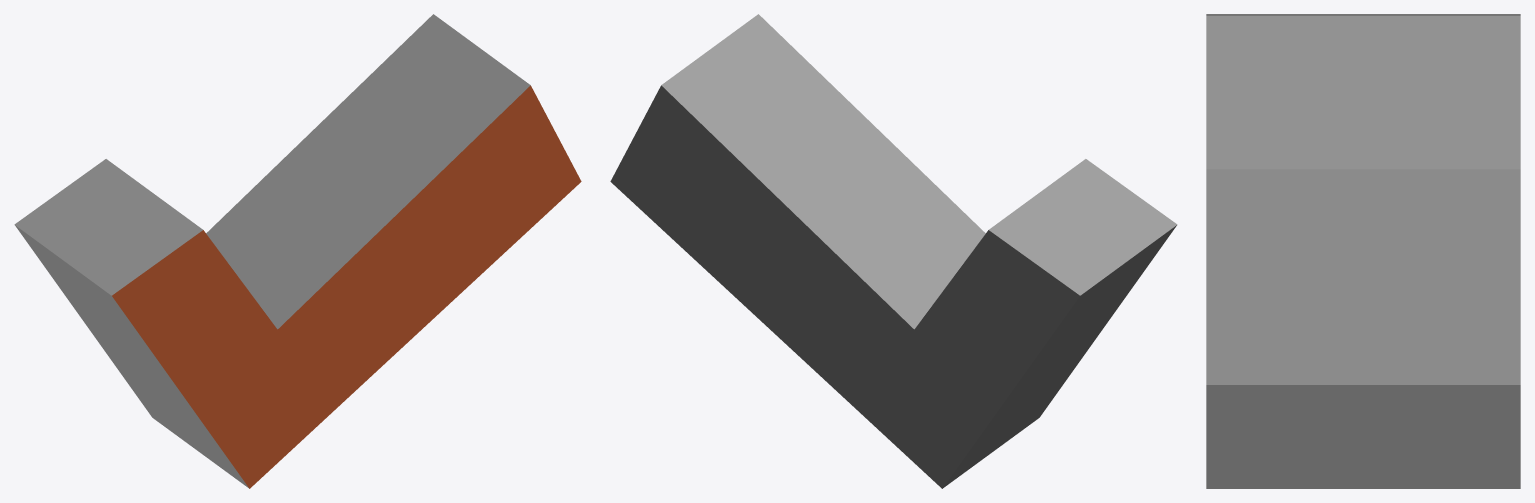
The model's file is construction_2332_assumed_A_Casa_h6m.obj.
3 renders of one model, left to right at view 1: azimuth 30°, elevation 25°; view 2: azimuth 150°, elevation 25°; view 3: azimuth 270°, elevation 25°, orthographic. The views are drawn at different scales.
Parts seen in each view (by area): view 1: construction_2332_assumed_A_Casa; view 2: construction_2332_assumed_A_Casa; view 3: construction_2332_assumed_A_Casa.
Boxes of the visible parts, x1,y1,x2,y2 form: construction_2332_assumed_A_Casa: (14, 14, 581, 488); construction_2332_assumed_A_Casa: (610, 14, 1177, 488); construction_2332_assumed_A_Casa: (1206, 14, 1520, 488).
Bounding box in the file's own units: 16.72 × 11.4 × 6.
